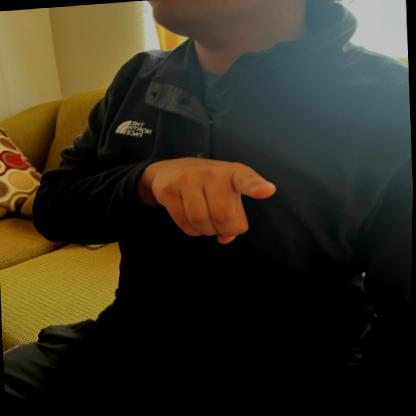X: (145, 145, 282, 257)
